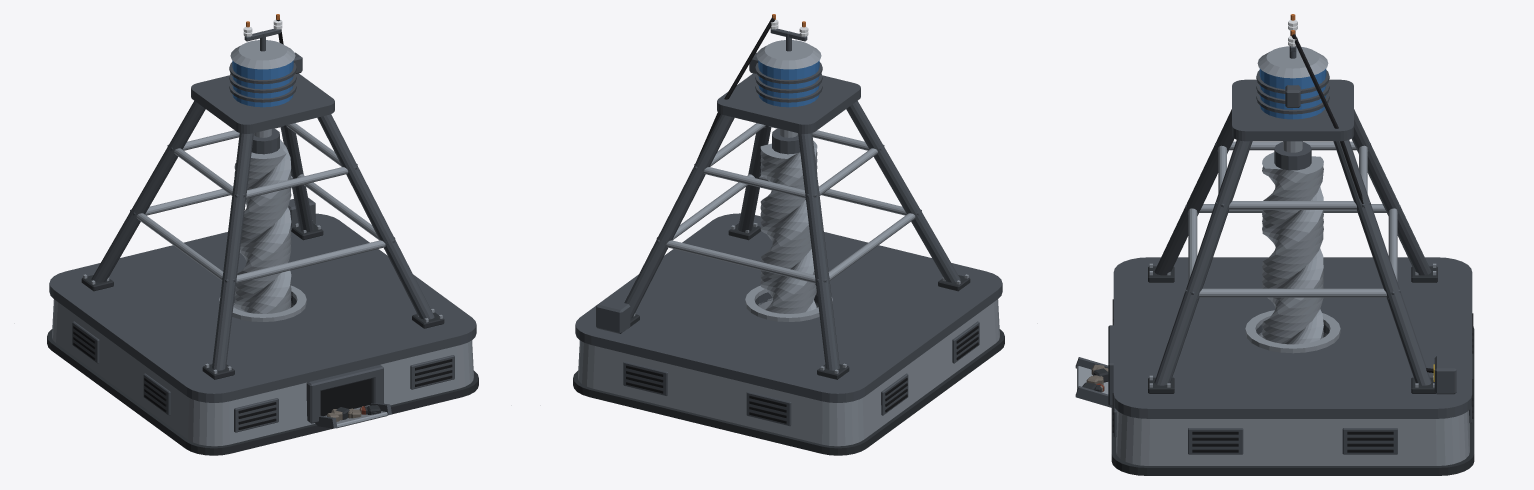
The model's file is foreuse_electrique_t2.glb.
3 views of the same model, side by side, from view 1: azimuth 30°, elevation 25°; view 2: azimuth 150°, elevation 25°; view 3: azimuth 270°, elevation 25° (orthographic). The views are drawn at different scales.
Parts seen in each view (by area): view 1: socle_dessus.004, pieces_acier_sombre.008, socle.004, foret_corps.006, pieces_acier.008, plateau.004, socle_plinthe.002, pieces_noir.008, moteur.004, moteur_chapeau.002, pieces_fonte.007, sortie_bouche.006 (+2 smaller); view 2: socle_dessus.004, socle.004, pieces_acier_sombre.008, foret_corps.006, pieces_acier.008, socle_plinthe.002, plateau.004, pieces_noir.008, moteur.004, moteur_chapeau.002, boitier.002, pieces_fonte.007 (+2 smaller); view 3: socle_dessus.004, pieces_acier_sombre.008, socle.004, foret_corps.006, pieces_acier.008, plateau.004, socle_plinthe.002, pieces_noir.008, moteur.004, moteur_chapeau.002, trou_bord.004, pieces_fonte.007 (+2 smaller).
Boxes of the visible parts, x1,y1,x2,y2 form: socle_dessus.004: (49, 213, 476, 402); pieces_acier_sombre.008: (72, 28, 454, 432); socle.004: (52, 299, 473, 446); foret_corps.006: (234, 139, 291, 313); pieces_acier.008: (83, 123, 442, 428); plateau.004: (191, 73, 334, 133); socle_plinthe.002: (47, 329, 478, 455); pieces_noir.008: (73, 18, 452, 429); moteur.004: (232, 60, 293, 107); moteur_chapeau.002: (230, 40, 295, 69); pieces_fonte.007: (81, 223, 444, 419); sortie_bouche.006: (320, 378, 371, 415); socle_dessus.004: (575, 213, 1002, 402); socle.004: (578, 298, 999, 446); pieces_acier_sombre.008: (623, 28, 979, 426); foret_corps.006: (760, 141, 817, 313); pieces_acier.008: (633, 123, 968, 373); socle_plinthe.002: (573, 329, 1004, 455); plateau.004: (717, 73, 860, 133); pieces_noir.008: (626, 17, 978, 423); moteur.004: (758, 60, 819, 107); moteur_chapeau.002: (756, 40, 821, 69); boitier.002: (596, 298, 630, 333); pieces_fonte.007: (629, 223, 970, 379); socle_dessus.004: (1113, 257, 1472, 418); pieces_acier_sombre.008: (1075, 31, 1472, 454); socle.004: (1116, 332, 1469, 465); foret_corps.006: (1262, 152, 1323, 344); pieces_acier.008: (1077, 141, 1436, 394); plateau.004: (1232, 79, 1353, 141); socle_plinthe.002: (1111, 326, 1474, 475); pieces_noir.008: (1112, 34, 1473, 452); moteur.004: (1259, 68, 1326, 119); moteur_chapeau.002: (1257, 46, 1328, 78); trou_bord.004: (1245, 310, 1340, 353); pieces_fonte.007: (1082, 266, 1437, 393).
Size of the model in its own units: 2 by 2.29 by 2.5.
